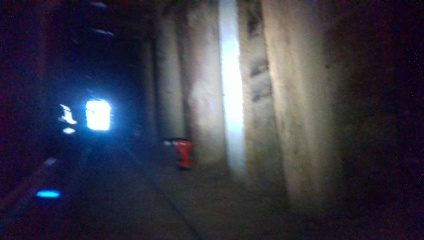drill: (162, 137, 195, 177)
fire_extinguisher: (129, 117, 147, 155)
manikin: (54, 91, 83, 140)
